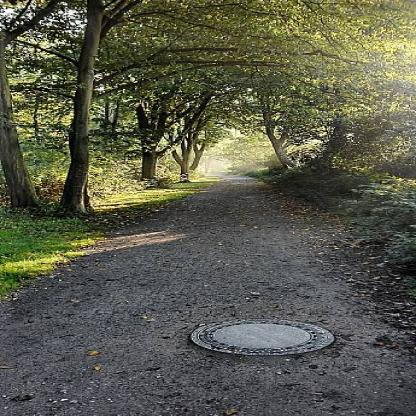manholes: (170, 304, 352, 373)
